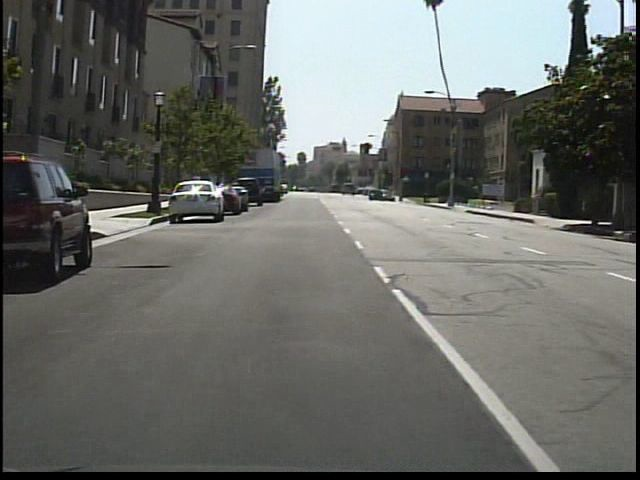person: (144, 167, 163, 213)
